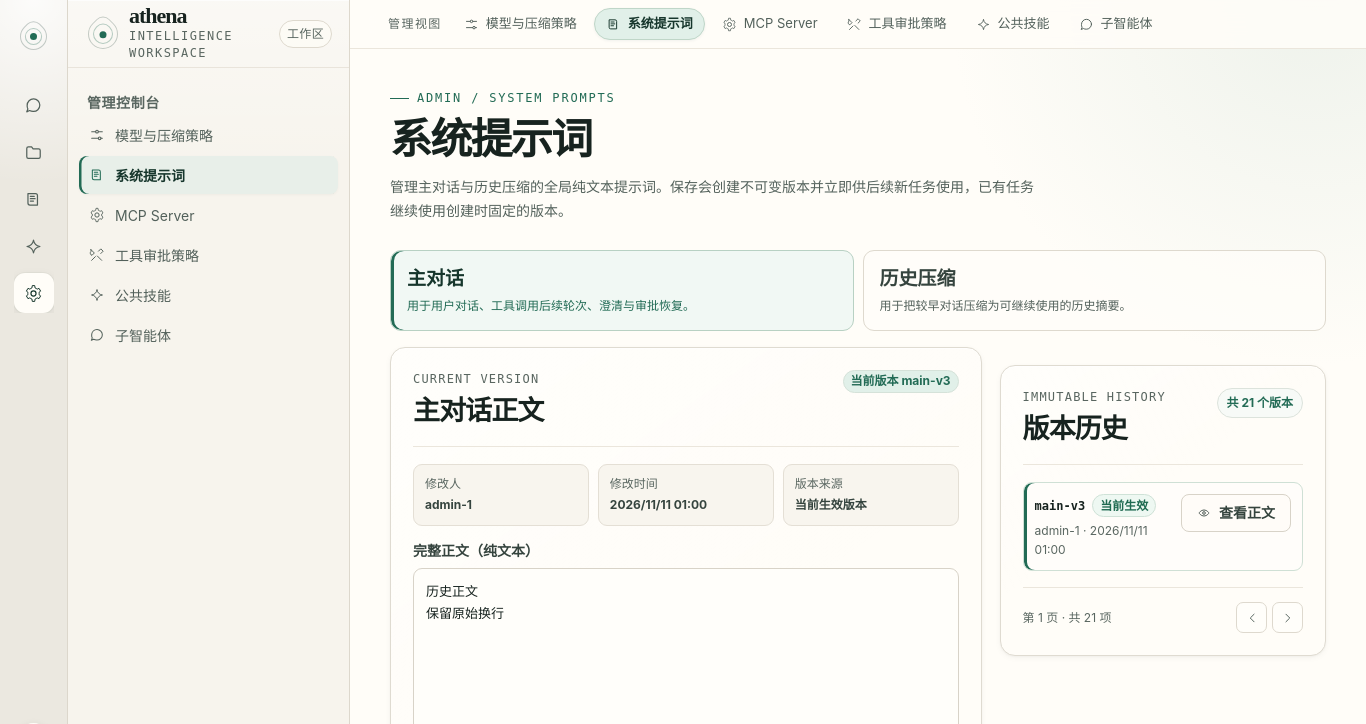
管理员系统提示词页 › 历史列表按服务端 total 分页，可查看完整正文并恢复为新版本
This screenshot has width=1366, height=724.
Later steps or results of the test are not shown.
expect the text "共 21 个版本" is shown: met, box [1217, 388, 1303, 418]
Click the button named "下一页" at [1288, 618], box [1272, 602, 1303, 633]
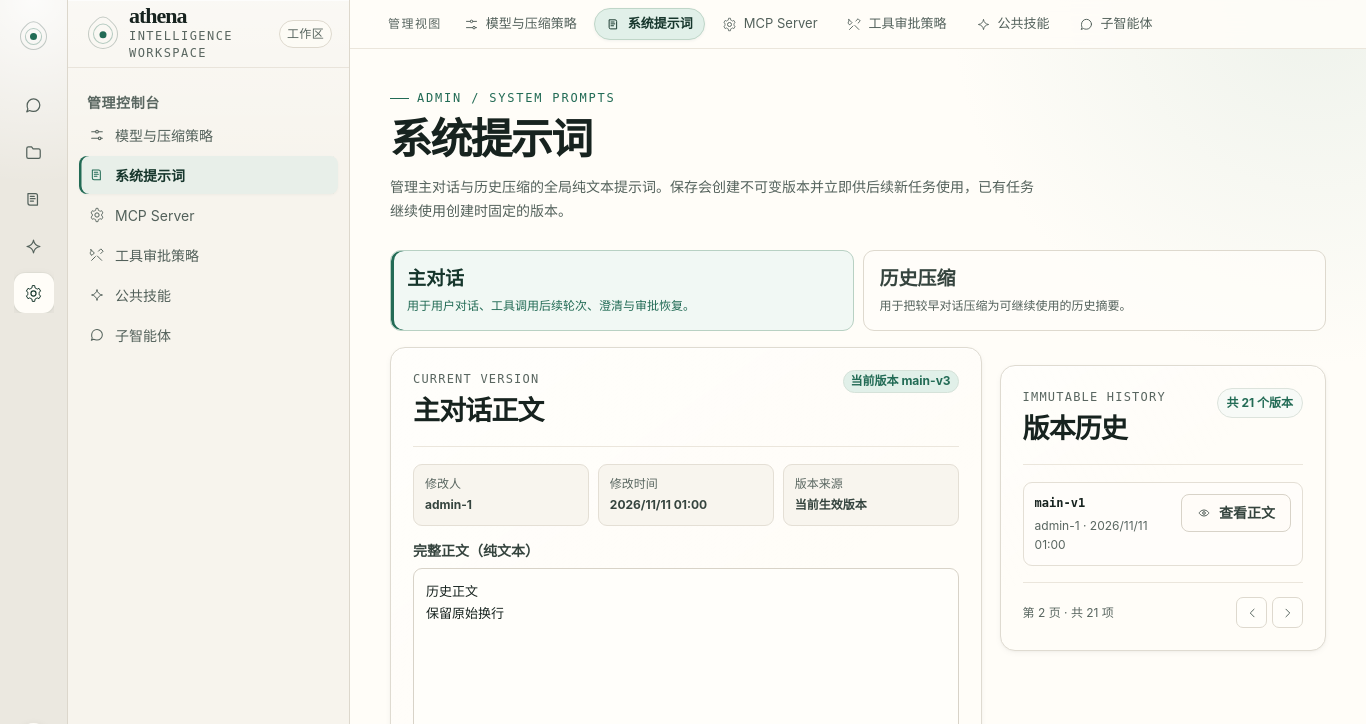
expect the text "main-v1" is shown: met, box [1035, 494, 1085, 512]
Click the button "查看正文" at [1236, 513], box [1181, 494, 1291, 532]
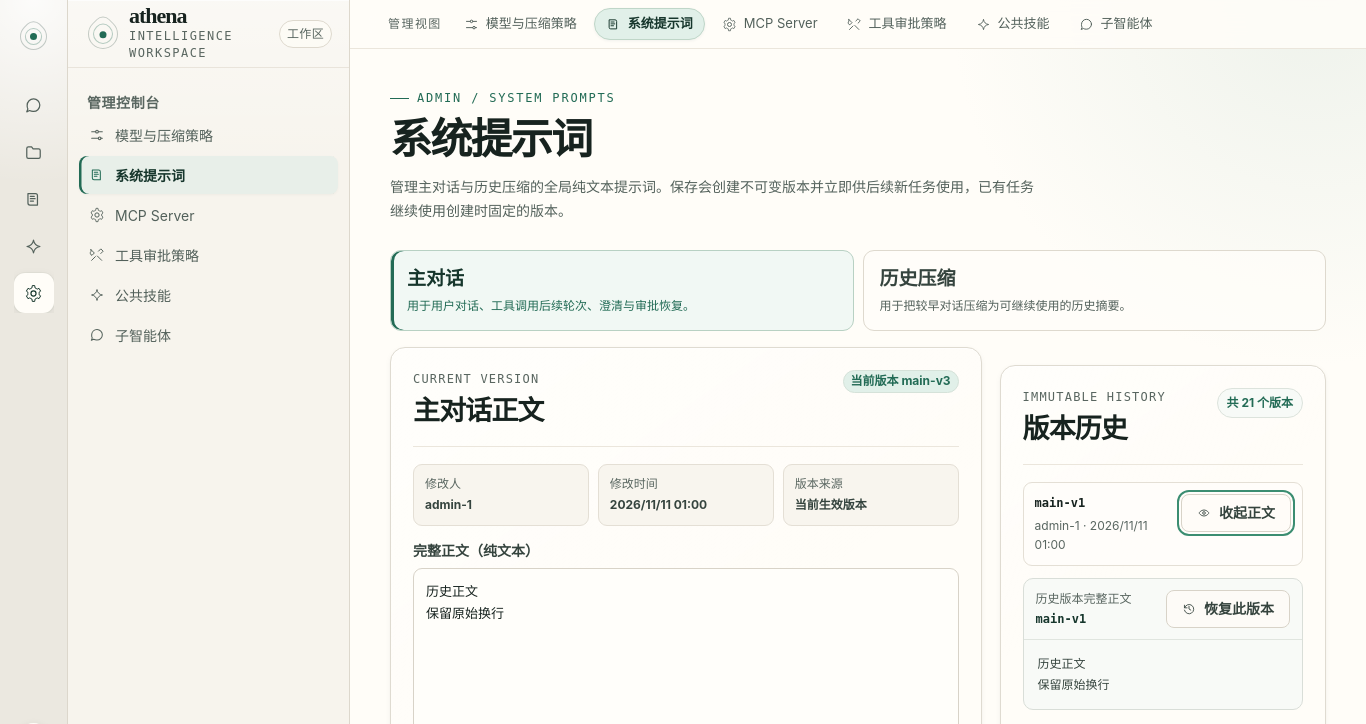
expect the text "历史正文 保留原始换行" is shown: met, box [1038, 657, 1110, 692]
Click the button "恢复此版本" at [1228, 609], box [1166, 590, 1290, 628]
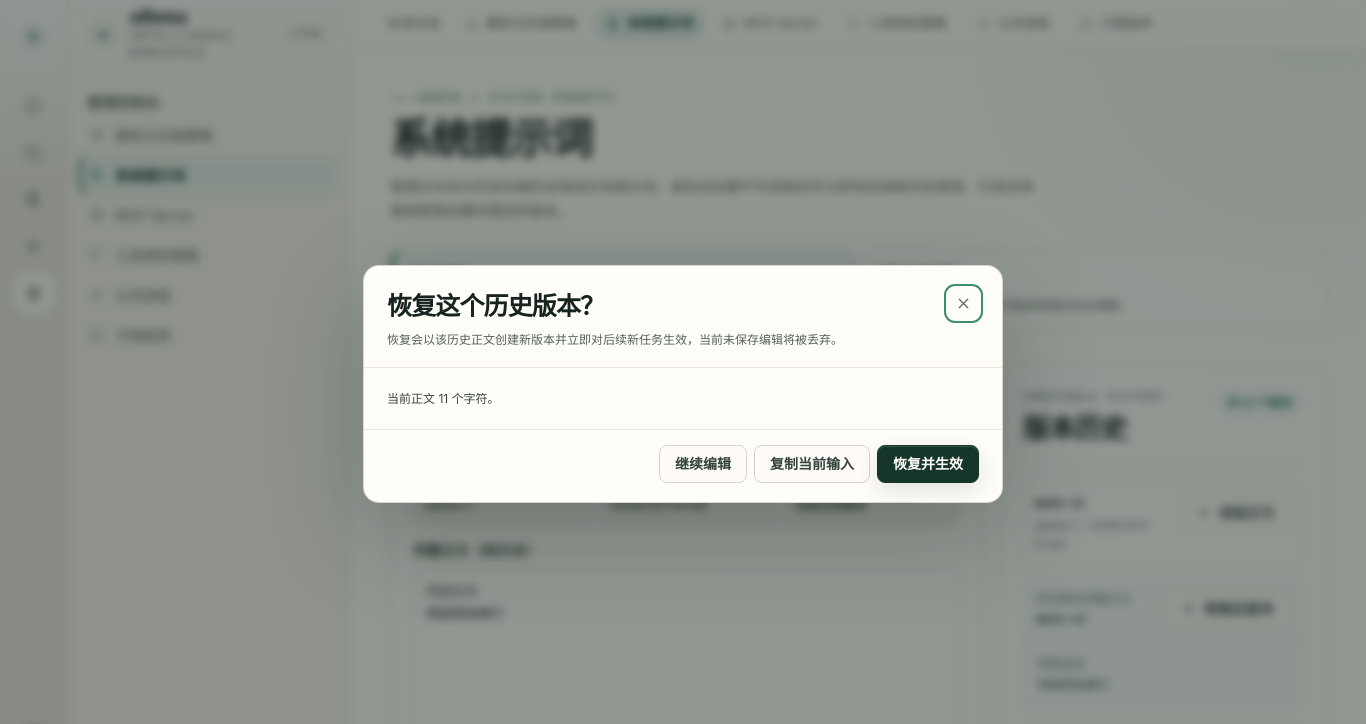
expect the heading "恢复这个历史版本？" is shown: met, box [387, 293, 604, 320]
